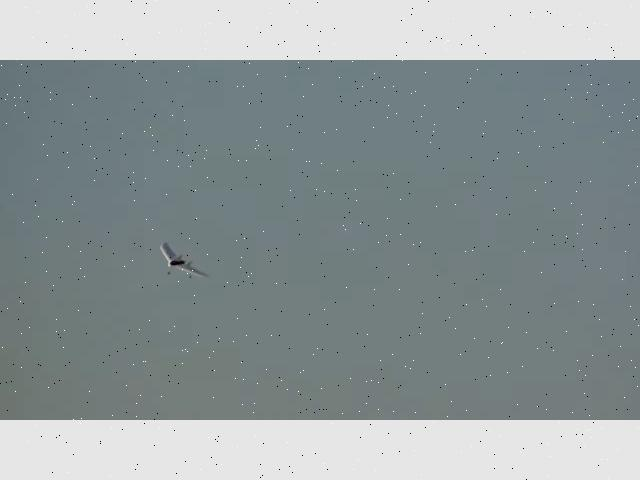Anti-Drone: (160, 244, 204, 277)
